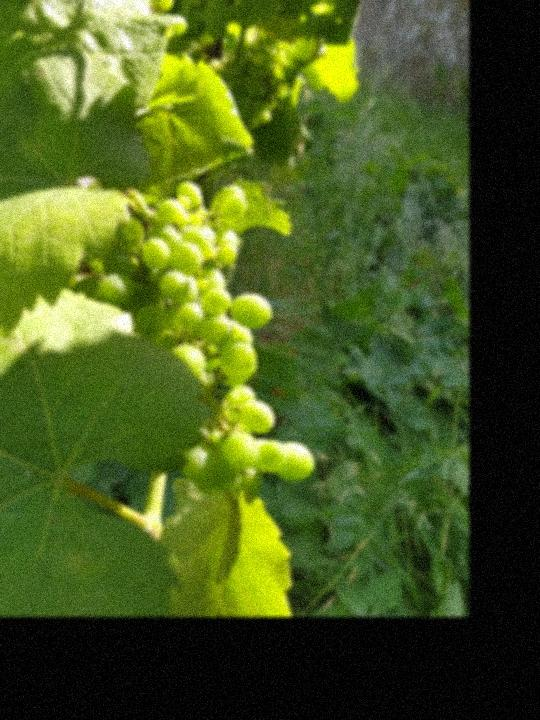grape: (66, 178, 320, 494)
